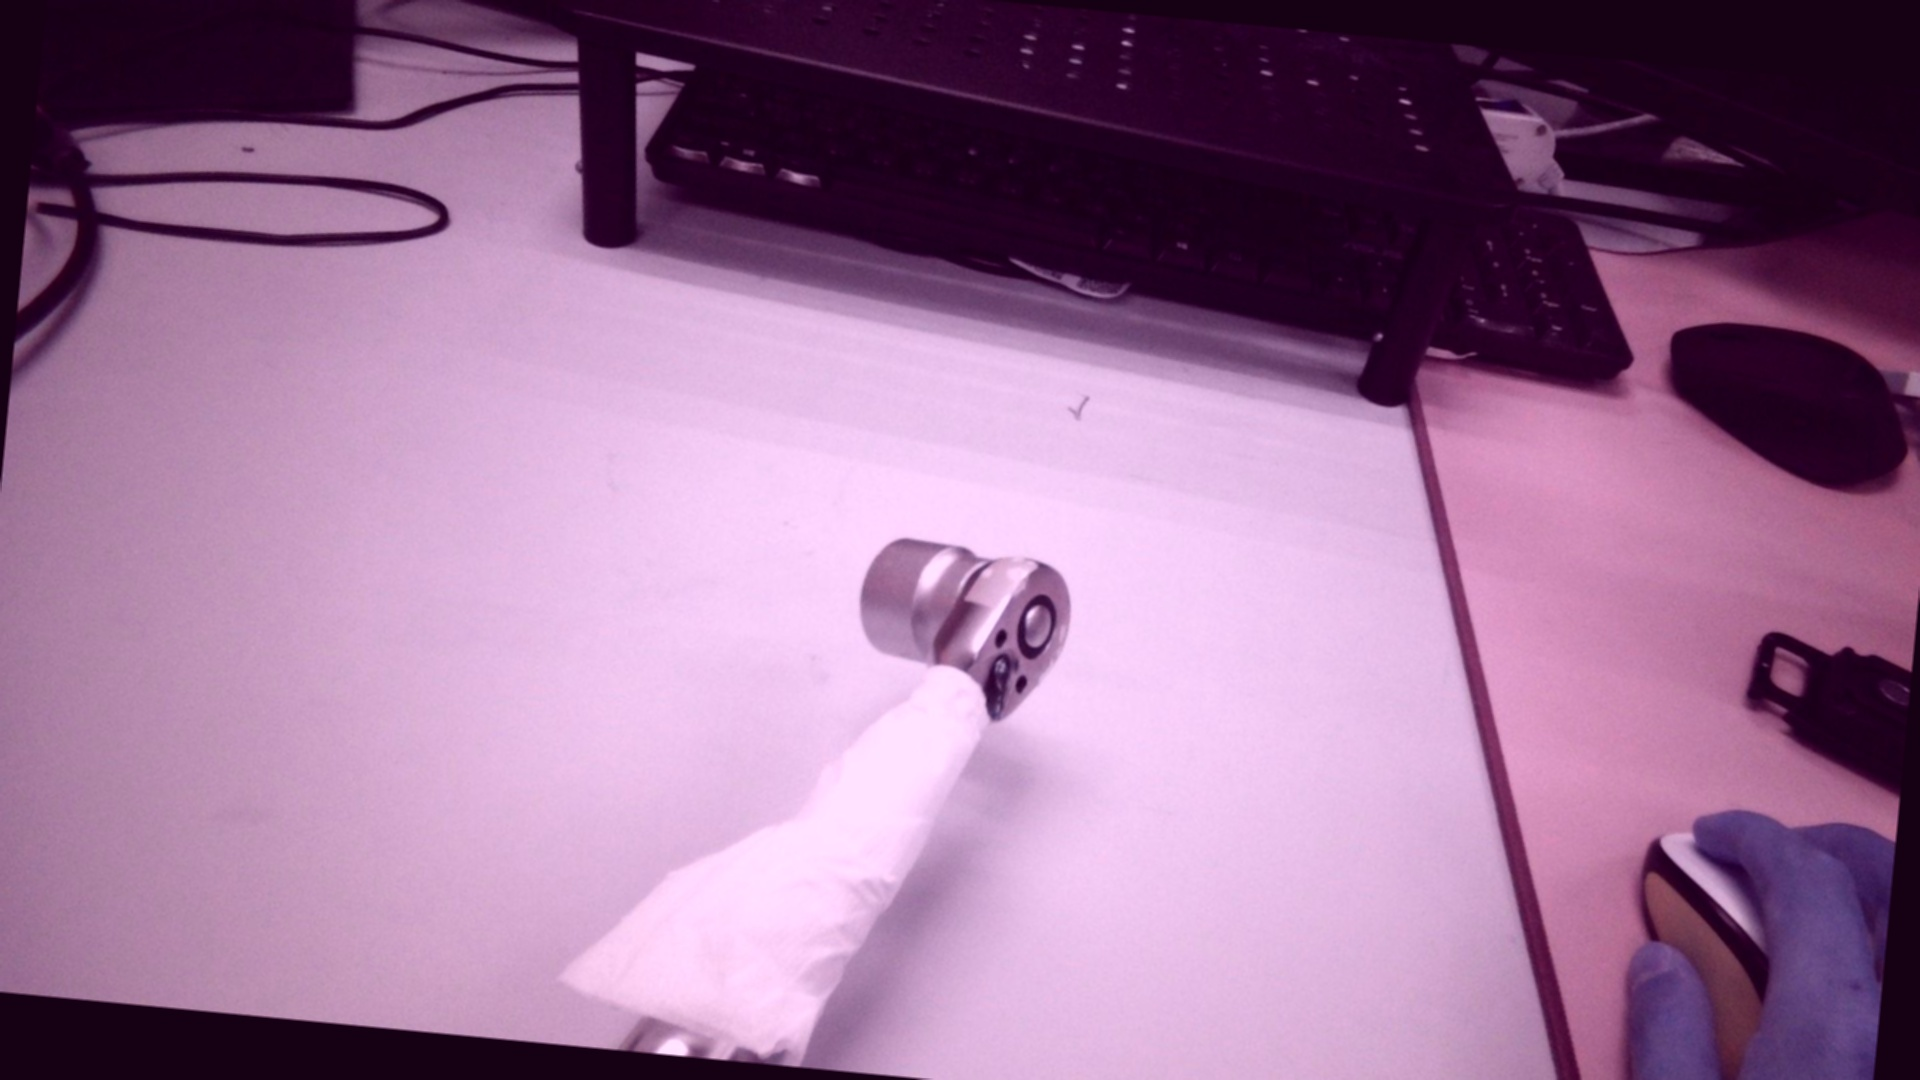wrench: (1014, 585, 1055, 657)
